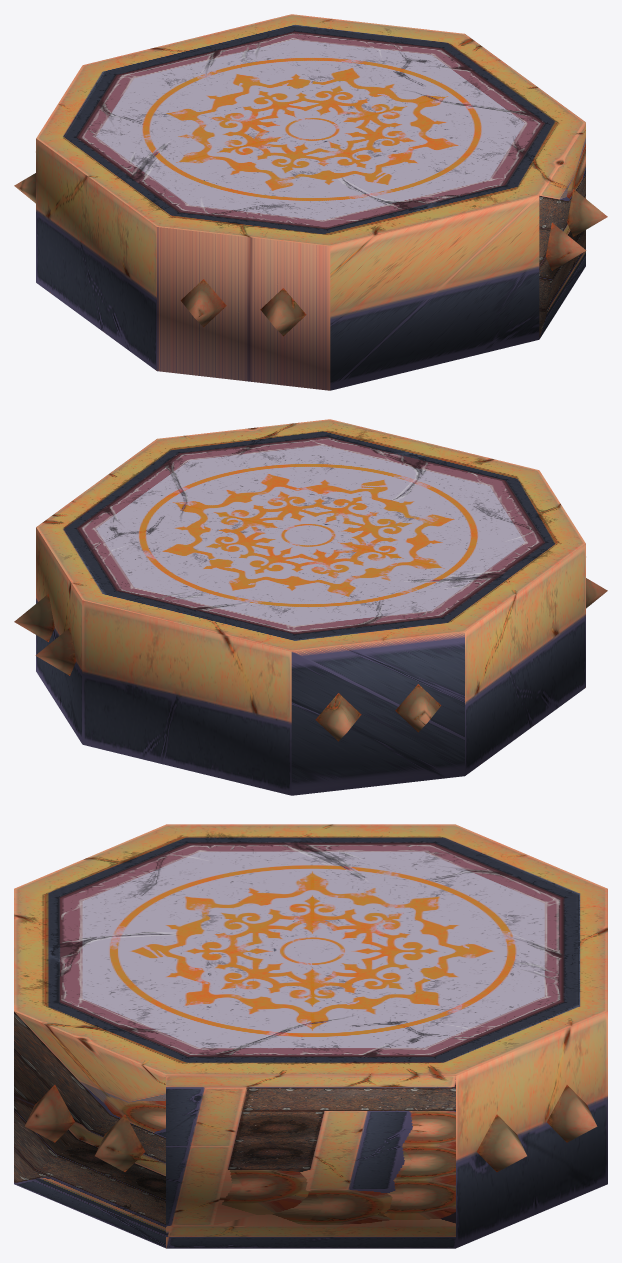
Rendered from sb_obj_DemonsCastle002_Altar01_col.fbx.
The picture shows the model from 3 angles, top to bottom: view 1: azimuth 30°, elevation 25°; view 2: azimuth 150°, elevation 25°; view 3: azimuth 270°, elevation 25°; orthographic projection. The views are drawn at different scales.
Parts seen in each view (by area): view 1: sb_obj_DemonsCastle002_Altar01_col; view 2: sb_obj_DemonsCastle002_Altar01_col; view 3: sb_obj_DemonsCastle002_Altar01_col.
Boxes of the visible parts, box(x1,y1,x2,y2) form: sb_obj_DemonsCastle002_Altar01_col: box(14, 14, 607, 390); sb_obj_DemonsCastle002_Altar01_col: box(14, 419, 607, 795); sb_obj_DemonsCastle002_Altar01_col: box(14, 824, 607, 1248).
Bounding box in the file's own units: 3.11 × 0.9989 × 3.11.
